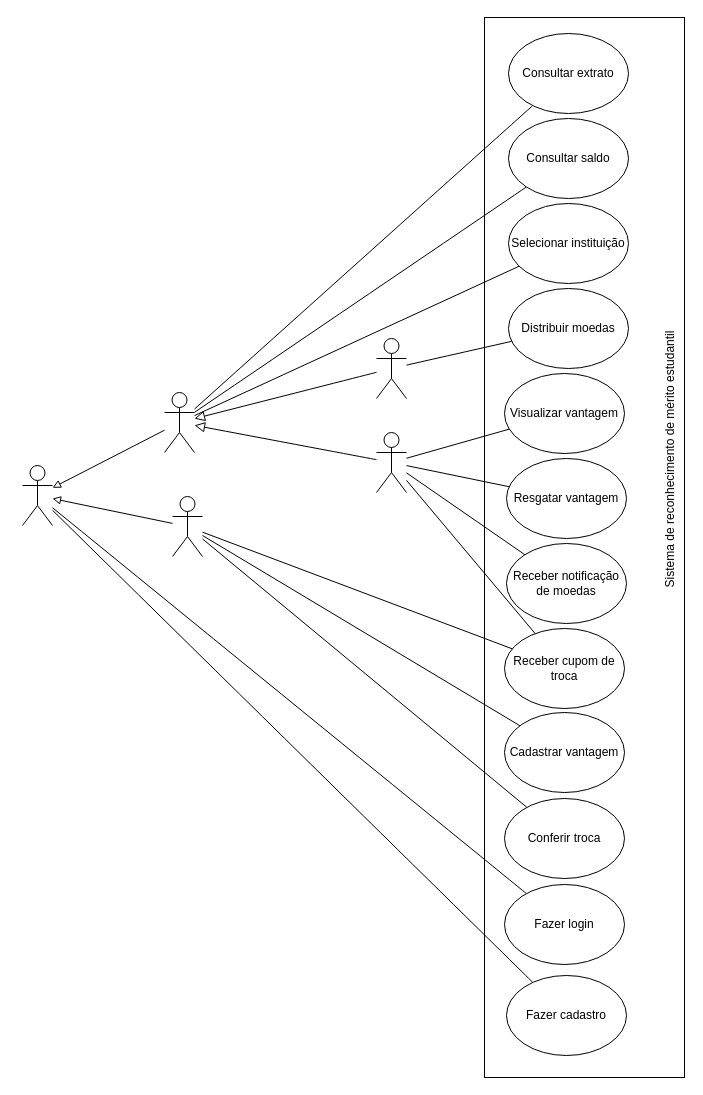
This 703x1095 diagram has some shape labels left out. Here are the shapes that lost their labels. From the top down, the centre of each, then its label:
(x=391, y=368): Professor
(x=179, y=422): Pessoa
(x=391, y=462): Aluno
(x=37, y=495): Usuario
(x=187, y=526): Empresa
